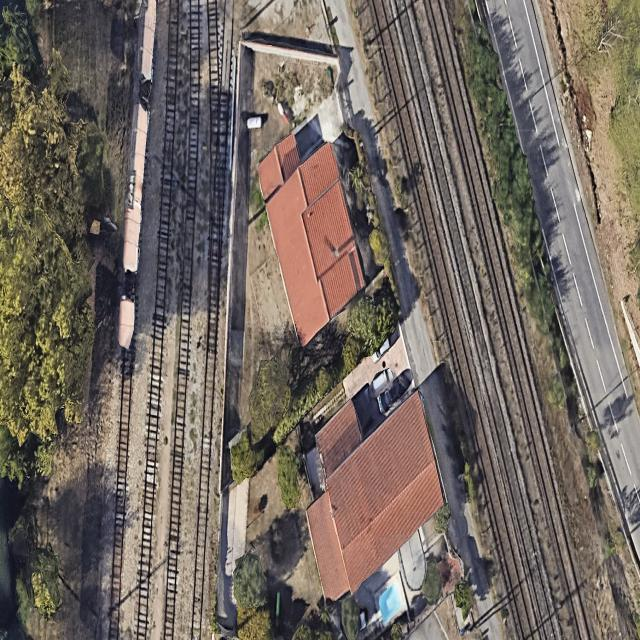maison: (287, 386, 460, 602), (250, 125, 374, 346)
